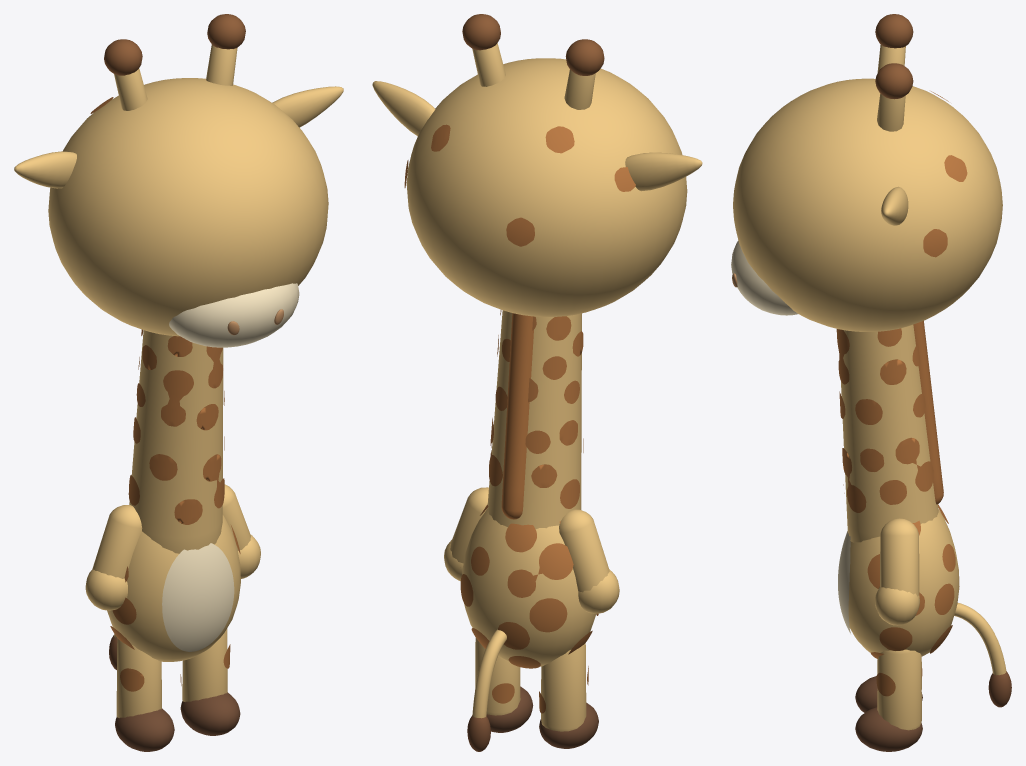
The model's file is animal-giraffe.glb.
3 renders of one model, left to right at view 1: azimuth 30°, elevation 25°; view 2: azimuth 150°, elevation 25°; view 3: azimuth 270°, elevation 25°, orthographic. The views are drawn at different scales.
Visible parts, largest first — view 1: head, neck, belly, torso, spots_neck, muzzle, leg_R, arm_R, leg_L, foot_L, foot_R, ear_R (+9 smaller); view 2: head, neck, torso, spots, mane, spots_neck, leg_R, arm_R, spots_head, ear_R, ear_L, leg_L (+10 smaller); view 3: head, neck, torso, spots_neck, leg_L, arm_L, spots, mane, foot_L, muzzle, hand_L, tail (+9 smaller).
Part boxes in pixels (x1=…): head: x1=48, y1=78, x2=328, y2=336; neck: x1=129, y1=330, x2=223, y2=553; belly: x1=162, y1=543, x2=234, y2=651; torso: x1=107, y1=515, x2=240, y2=661; spots_neck: x1=128, y1=329, x2=224, y2=524; muzzle: x1=169, y1=283, x2=299, y2=347; leg_R: x1=116, y1=638, x2=161, y2=717; arm_R: x1=92, y1=505, x2=142, y2=578; leg_L: x1=182, y1=628, x2=227, y2=701; foot_L: x1=180, y1=692, x2=240, y2=735; foot_R: x1=115, y1=708, x2=174, y2=751; ear_R: x1=14, y1=151, x2=76, y2=188; head: x1=406, y1=58, x2=687, y2=316; neck: x1=487, y1=310, x2=581, y2=529; torso: x1=462, y1=508, x2=596, y2=666; spots: x1=460, y1=504, x2=598, y2=668; mane: x1=501, y1=313, x2=533, y2=519; spots_neck: x1=489, y1=310, x2=583, y2=508; leg_R: x1=541, y1=643, x2=586, y2=731; arm_R: x1=559, y1=509, x2=609, y2=592; spots_head: x1=404, y1=124, x2=635, y2=246; ear_R: x1=625, y1=152, x2=702, y2=191; ear_L: x1=372, y1=81, x2=435, y2=136; leg_L: x1=475, y1=637, x2=520, y2=715; head: x1=733, y1=78, x2=1002, y2=331; neck: x1=841, y1=324, x2=938, y2=542; torso: x1=848, y1=509, x2=959, y2=656; spots_neck: x1=836, y1=328, x2=933, y2=512; leg_L: x1=877, y1=649, x2=921, y2=730; arm_L: x1=880, y1=518, x2=919, y2=596; spots: x1=867, y1=504, x2=955, y2=658; mane: x1=913, y1=320, x2=943, y2=504; foot_L: x1=855, y1=707, x2=922, y2=751; muzzle: x1=731, y1=241, x2=798, y2=315; hand_L: x1=875, y1=586, x2=919, y2=625; tail: x1=954, y1=603, x2=1006, y2=675.
Bounding box in the file's own units: 0.701 × 1.44 × 0.5304.
